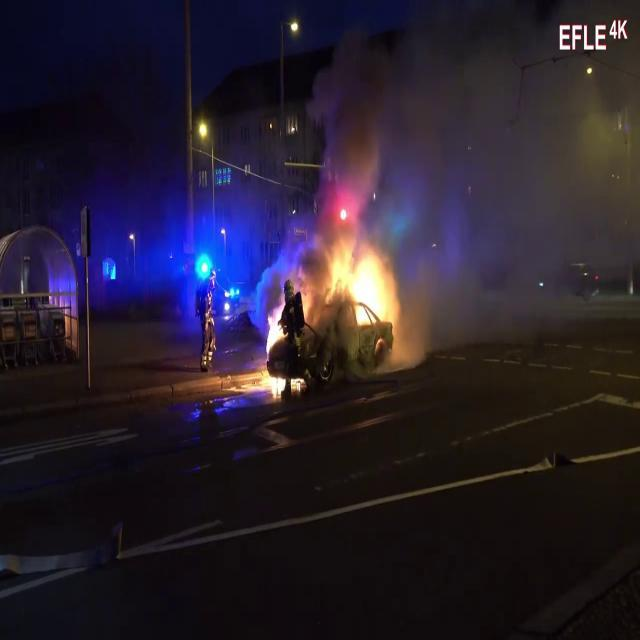Fire: (325, 220, 399, 330)
Smoke: (305, 1, 640, 289)
